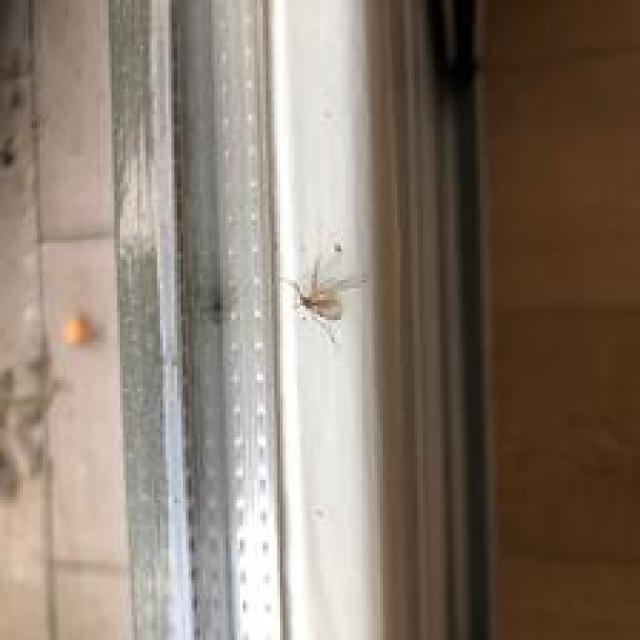Culex: (279, 242, 367, 344)
